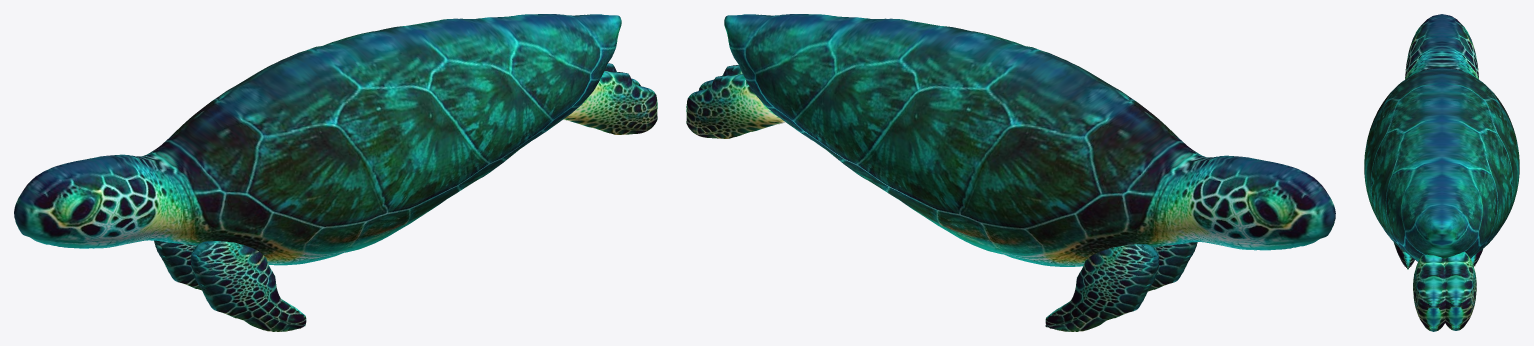
The model's file is green-turtle.glb.
3 views of the same model, side by side, from view 1: azimuth 30°, elevation 25°; view 2: azimuth 150°, elevation 25°; view 3: azimuth 270°, elevation 25° (orthographic). The views are drawn at different scales.
Parts seen in each view (by area): view 1: mm_frame (22); view 2: mm_frame (22); view 3: mm_frame (22).
Part boxes in pixels (box(x1,y1,x2,y2)): mm_frame (22): box(14, 14, 657, 331); mm_frame (22): box(686, 14, 1335, 331); mm_frame (22): box(1364, 14, 1519, 331).
Size of the model in its own units: 8.55 by 3.22 by 2.2.
1 material, 1 textured.
